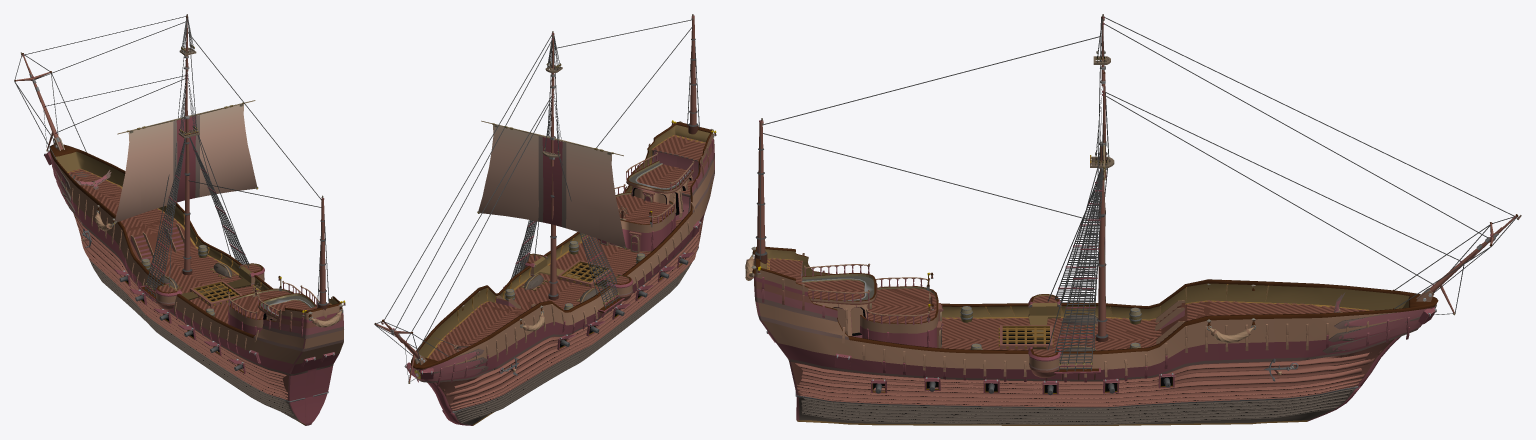
File: raging-heaven.glb
3 views of the same model, side by side, from view 1: azimuth 30°, elevation 25°; view 2: azimuth 150°, elevation 25°; view 3: azimuth 270°, elevation 25° (orthographic). The views are drawn at different scales.
Visible parts, largest first — view 1: ShipExport_Temp, Sail Square 3_0, Mast_1, Rigging, Mast_0, Mast_2; view 2: ShipExport_Temp, Sail Square 3_0, Mast_1, Rigging, Mast_2, Mast_0; view 3: ShipExport_Temp, Mast_1, Rigging, Mast_0, Mast_2.
Part boxes in pixels (<box>): ShipExport_Temp: <box>44,144,345,425</box>; Sail Square 3_0: <box>113,100,258,224</box>; Mast_1: <box>139,14,249,311</box>; Rigging: <box>24,16,321,207</box>; Mast_0: <box>14,52,87,160</box>; Mast_2: <box>317,195,329,310</box>; ShipExport_Temp: <box>404,120,716,425</box>; Sail Square 3_0: <box>477,120,626,249</box>; Mast_1: <box>503,31,624,318</box>; Rigging: <box>384,19,692,351</box>; Mast_2: <box>687,14,699,134</box>; Mast_0: <box>374,319,449,383</box>; ShipExport_Temp: <box>745,246,1438,425</box>; Mast_1: <box>1045,14,1114,380</box>; Rigging: <box>762,17,1514,283</box>; Mast_0: <box>1393,214,1521,315</box>; Mast_2: <box>754,118,767,263</box>.
Bounding box in the file's own units: 210 × 448 × 773.
